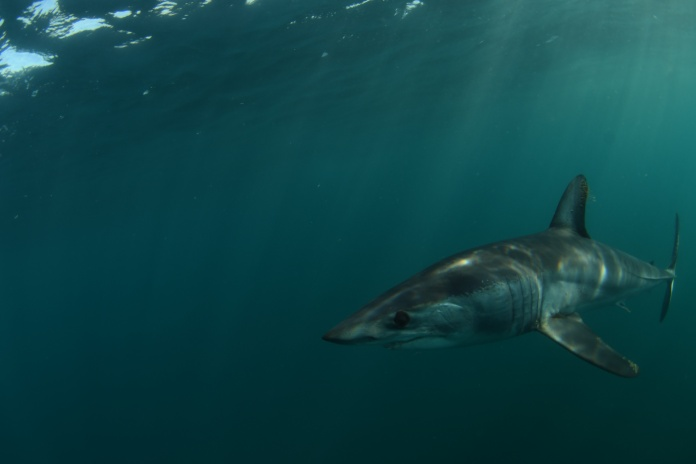Mako: (308, 159, 691, 384)
